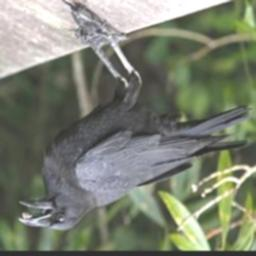Crow: (16, 19, 253, 232)
